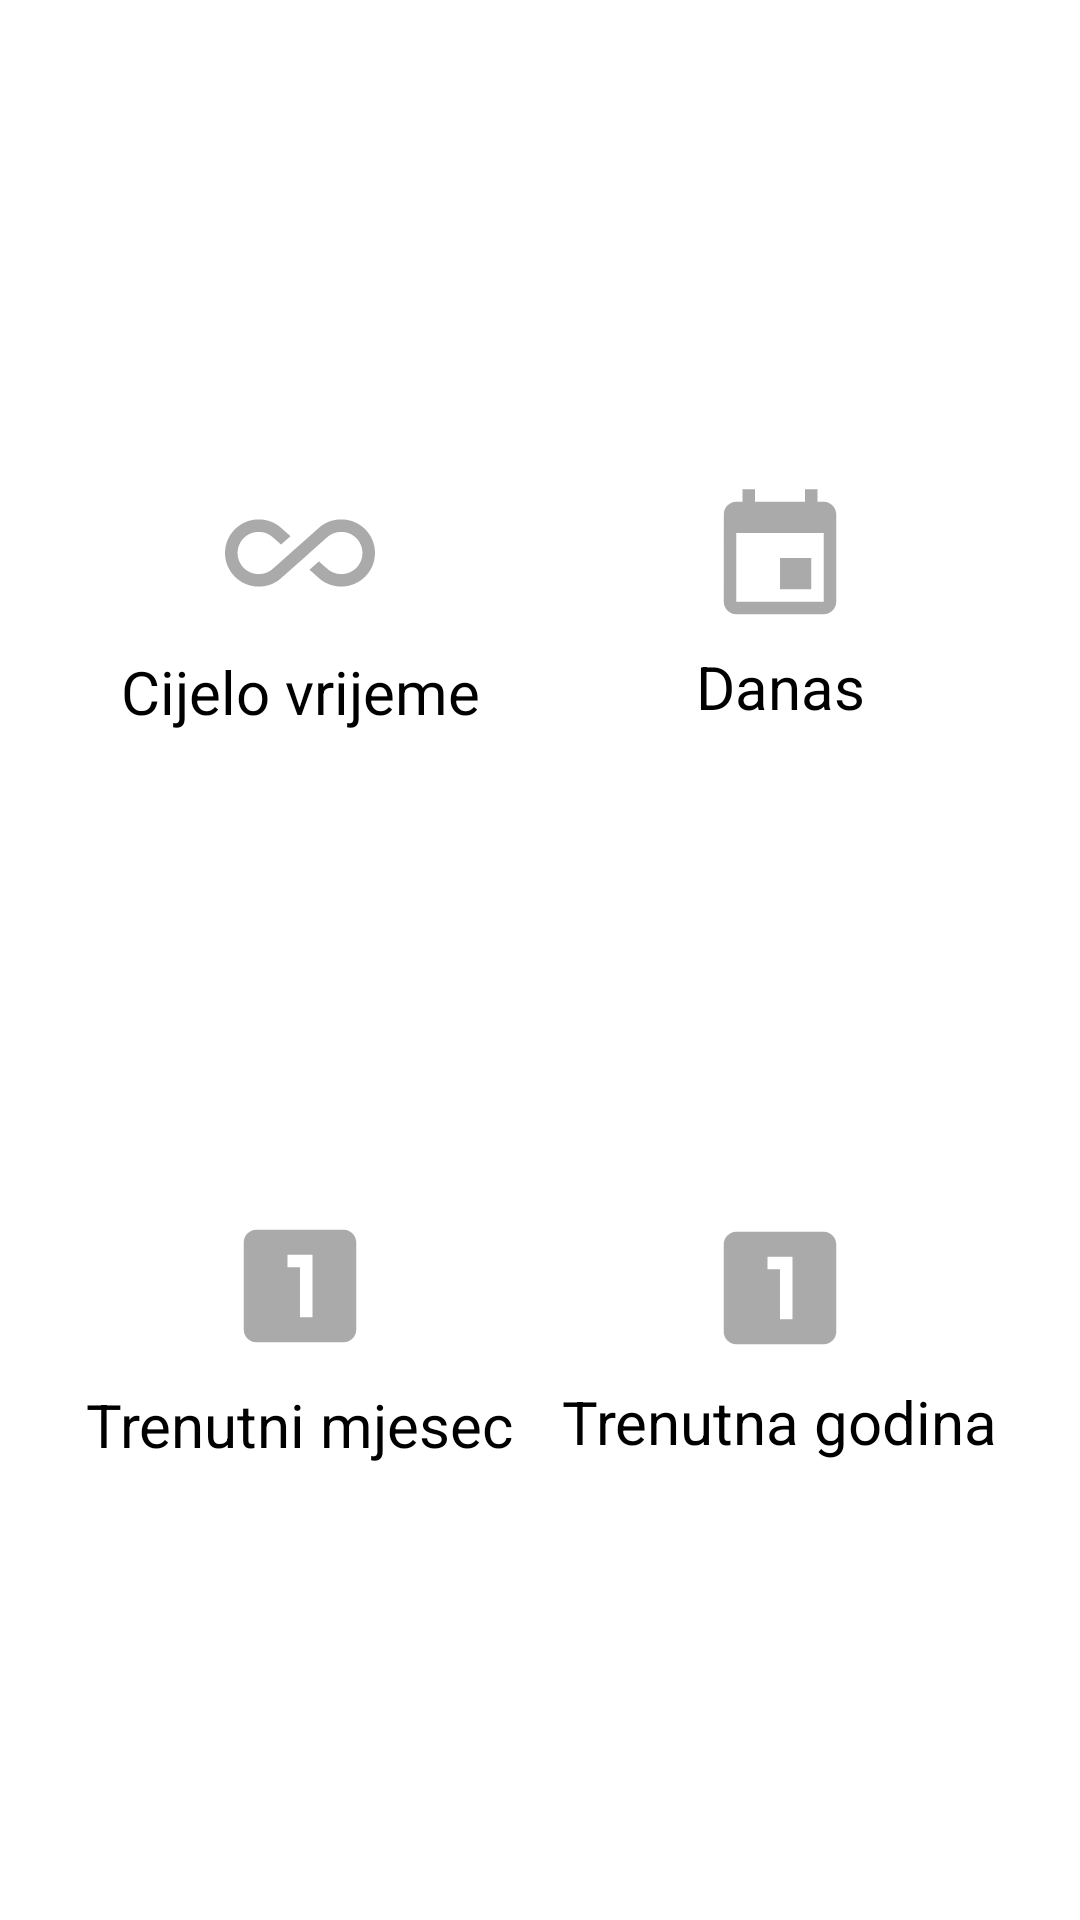

Icon click points for this 1080 x 1920 phone screenshot, format (x,y):
calendar day: (780,551)
infinite: (300,553)
